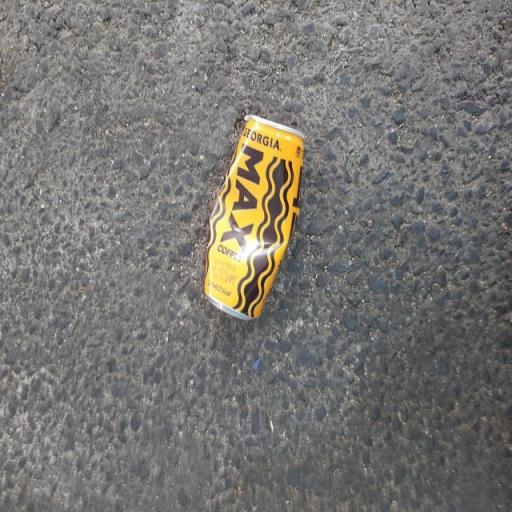metal: (174, 98, 332, 363)
